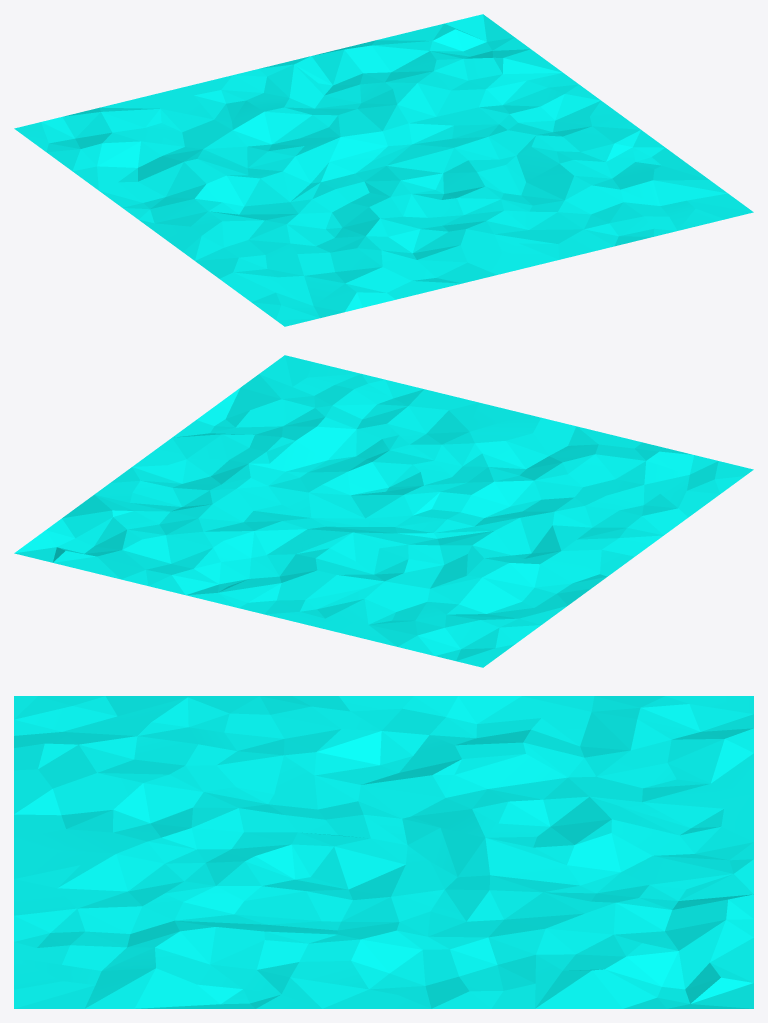
Rendered from WaterTop.glb.
3 renders of one model, top to bottom at view 1: azimuth 30°, elevation 25°; view 2: azimuth 150°, elevation 25°; view 3: azimuth 270°, elevation 25°, orthographic. The views are drawn at different scales.
Parts seen in each view (by area): view 1: Water_Cell; view 2: Water_Cell; view 3: Water_Cell.
Part boxes in pixels (box(x1,y1,x2,y2)): Water_Cell: box(14, 14, 753, 326); Water_Cell: box(14, 355, 753, 667); Water_Cell: box(14, 696, 753, 1008).
Size of the model in its own units: 1.8 by 0.0623 by 1.8.
